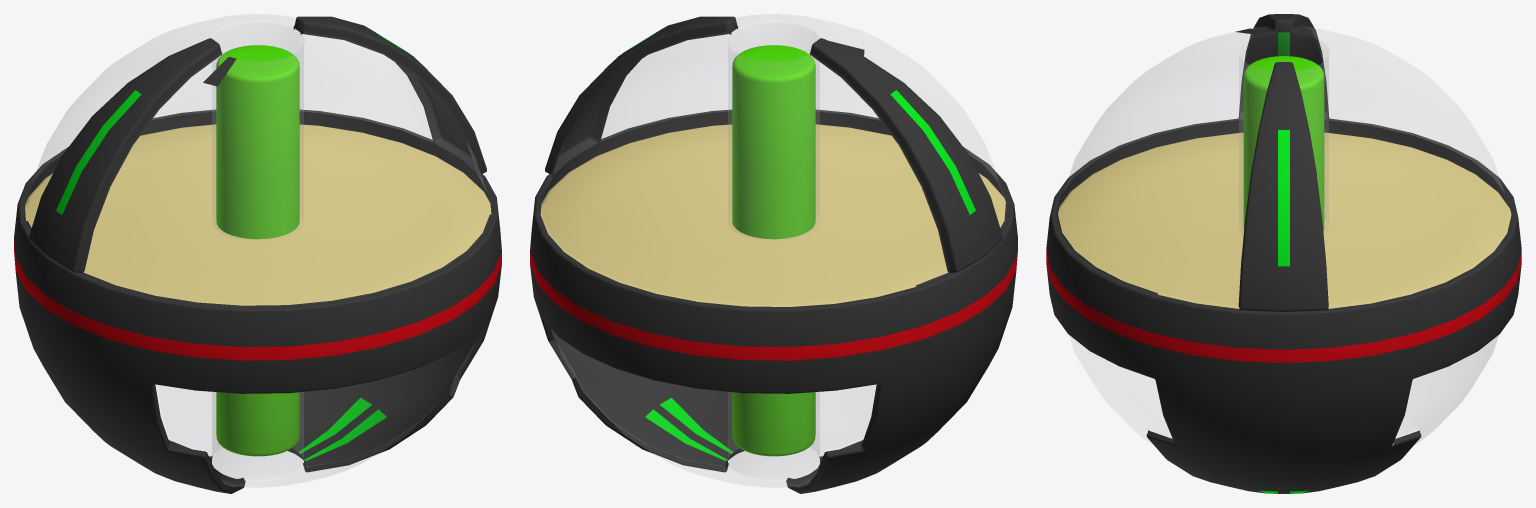
The model's file is GNL.fbx.
The picture shows the model from 3 angles, left to right: view 1: azimuth 30°, elevation 25°; view 2: azimuth 150°, elevation 25°; view 3: azimuth 270°, elevation 25°; orthographic projection. The views are drawn at different scales.
Visible parts, largest first — view 1: GNL, Sphere.003, Sphere.002; view 2: GNL, Sphere.003, Sphere.002; view 3: GNL, Sphere.003, Sphere.002.
Boxes of the visible parts, bbox=[...] form: GNL: bbox=[14, 14, 501, 493]; Sphere.003: bbox=[25, 124, 491, 305]; Sphere.002: bbox=[216, 45, 299, 456]; GNL: bbox=[530, 14, 1017, 493]; Sphere.003: bbox=[540, 124, 1005, 306]; Sphere.002: bbox=[732, 45, 815, 456]; GNL: bbox=[1046, 14, 1521, 493]; Sphere.003: bbox=[1058, 132, 1511, 308]; Sphere.002: bbox=[1243, 56, 1324, 230].
Bounding box in the file's own units: 206 × 204 × 206.
